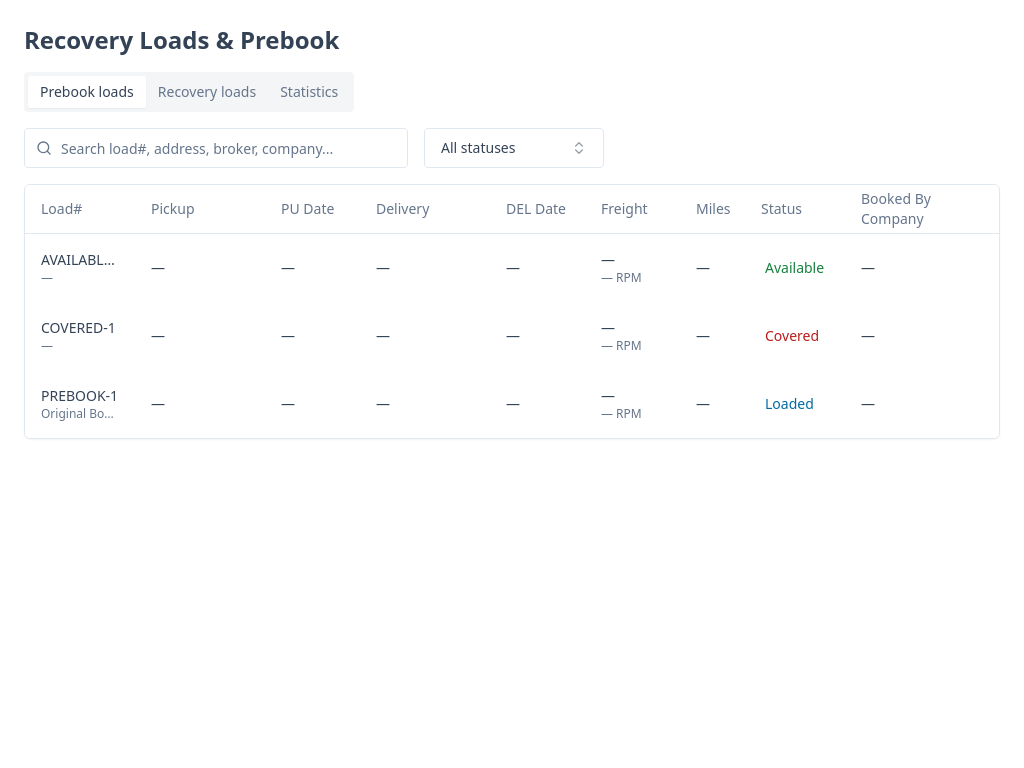
Test: shows manager performance only to admin, checking admin
expect the text "PREBOOK-1" is shown: met, box top-left (41, 386), bottom-right (118, 406)
Press the mouse on the tab "Statistics" at (309, 92), box top-left (268, 76), bottom-right (350, 108)
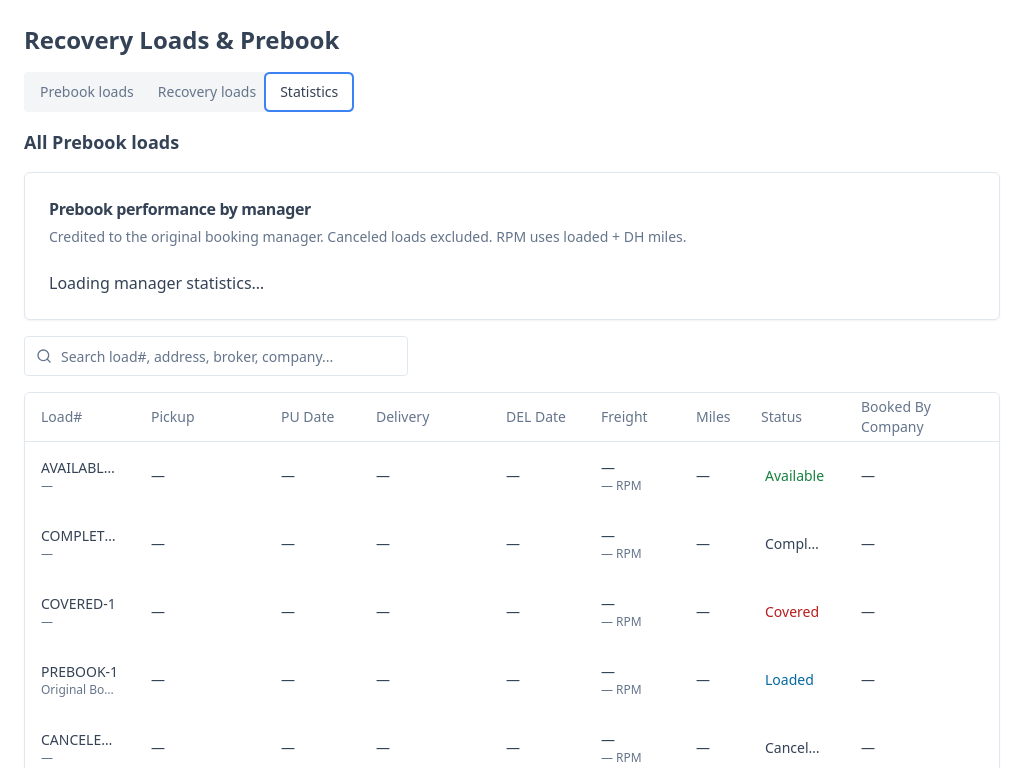
expect the heading "All Prebook loads" is shown: met, box top-left (24, 130), bottom-right (179, 154)
expect the text "Prebook performance by manager" is shown: met, box top-left (49, 198), bottom-right (311, 220)
